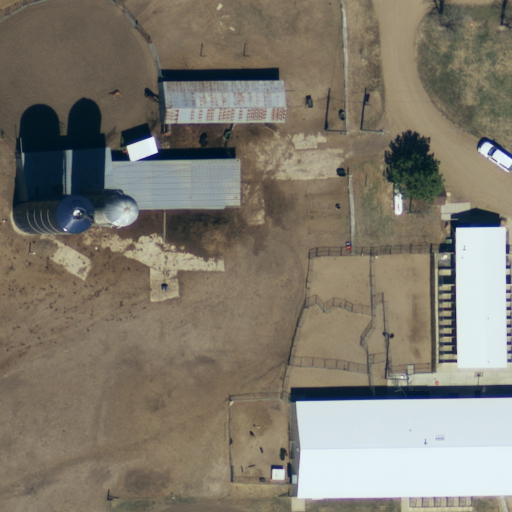DT: (321, 123, 349, 141), (358, 123, 386, 141)
